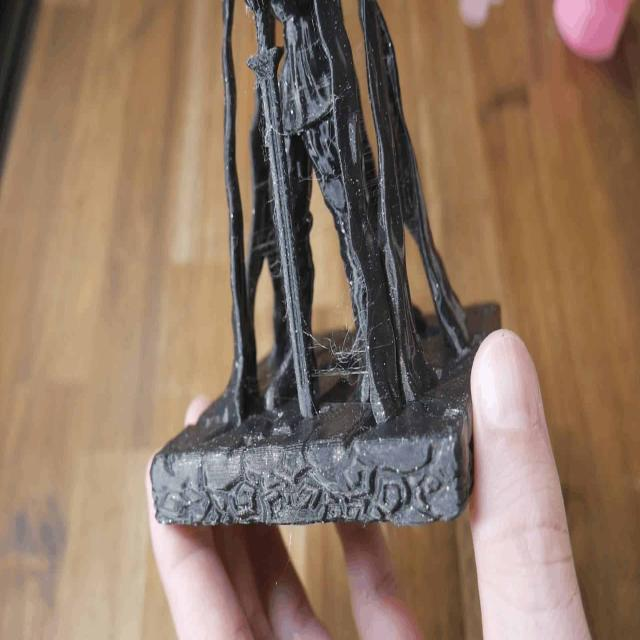Stringing: (310, 318, 374, 394)
